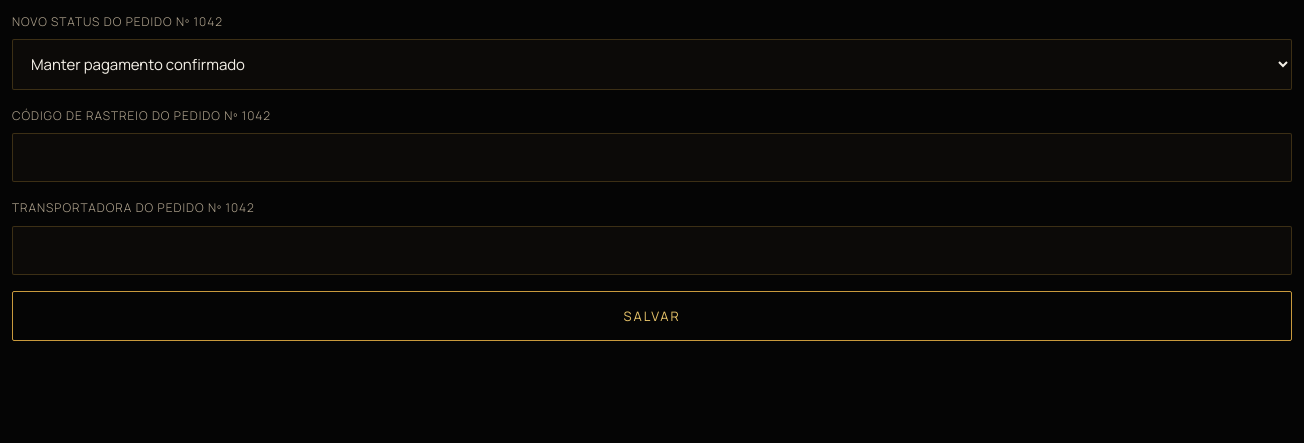
Scenario: ExpedicaoPedido › envia status e rastreio no corpo exato do PATCH
Select "Enviado" in the dropdown labelled "Novo status do pedido nº 1042" at (652, 65), box [12,39,1292,90]
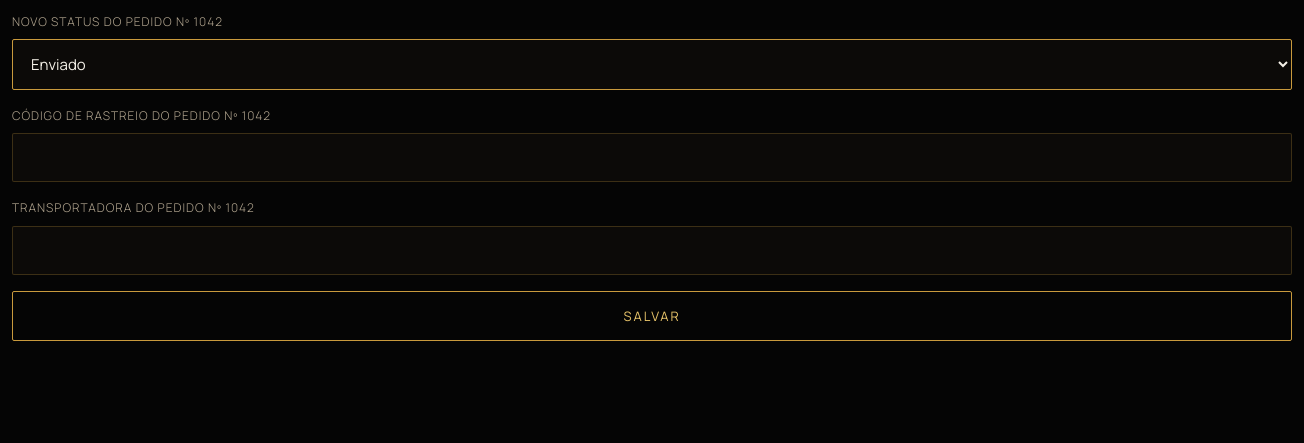
Type "AA123456789BR" into the field labelled "Código de rastreio do pedido nº 1042".
click(652, 158); type("AA123456789BR")  # box [12,133,1292,182]
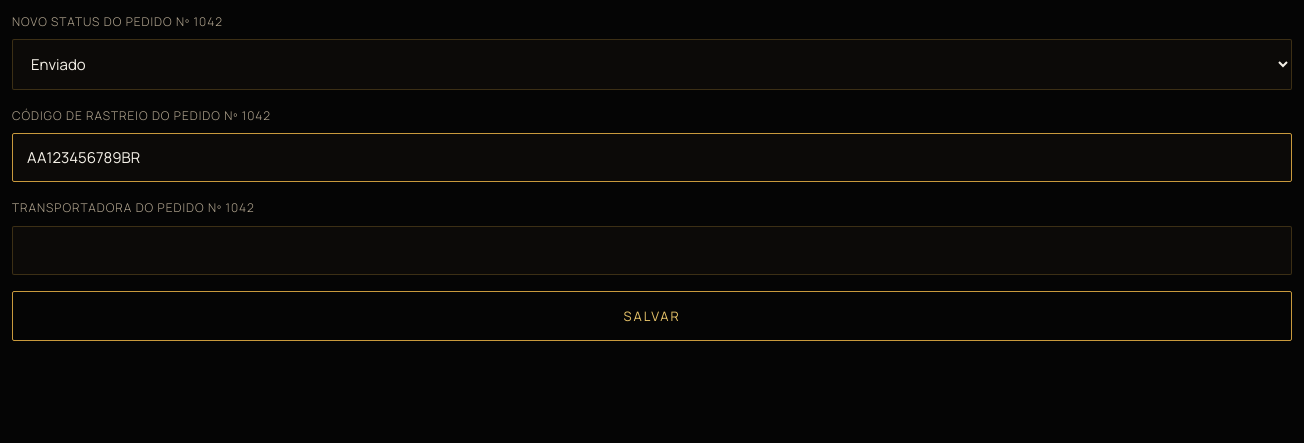
Type "Correios" into the field labelled "Transportadora do pedido nº 1042".
click(652, 250); type("Correios")  # box [12,226,1292,275]
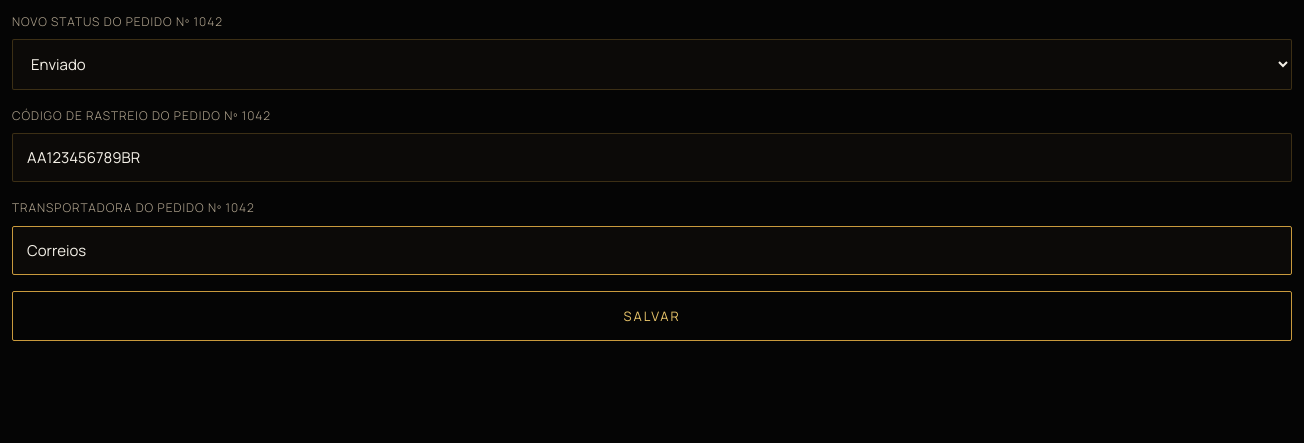
Click the button "Salvar".
click(652, 316)  # box [12,291,1292,341]
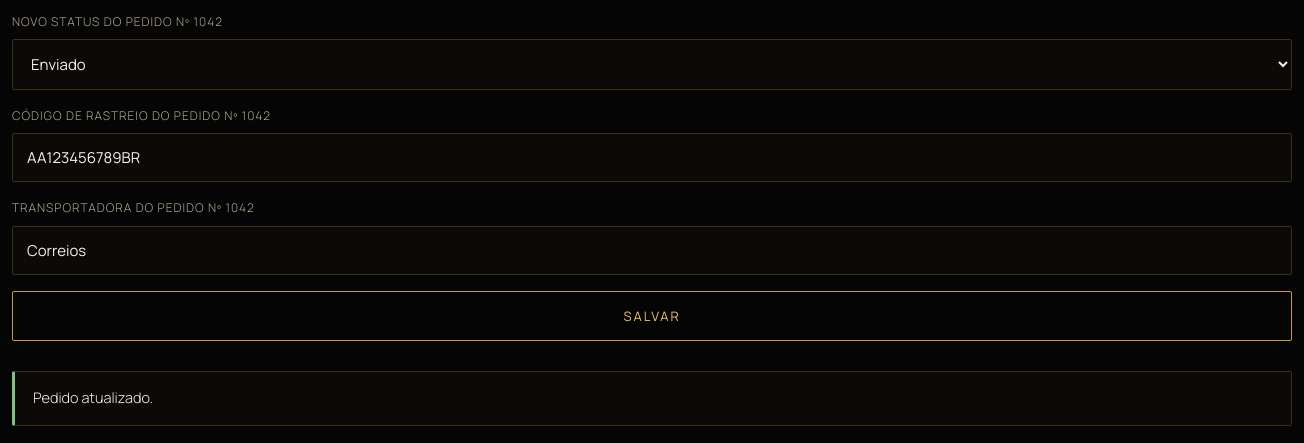
expect the message with test id "mensagem-expedicao" shows "atualizado": met, box [33,388,153,407]
